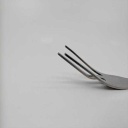Fork: (52, 42, 128, 98)
